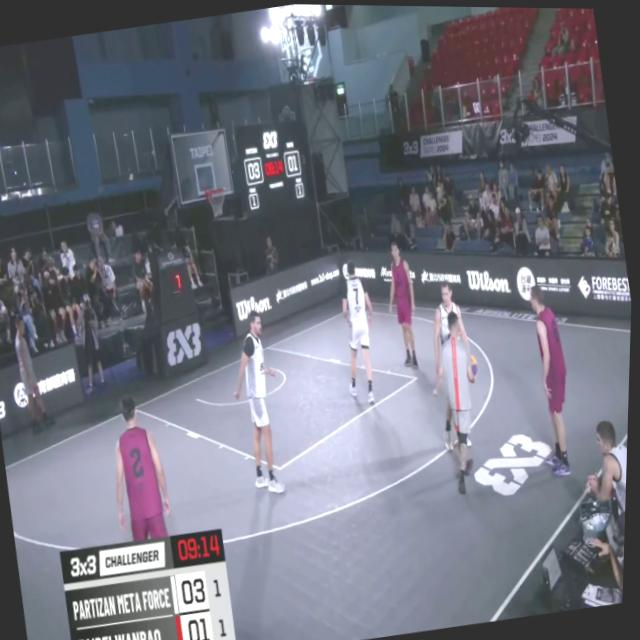ball: (464, 347, 485, 379)
hoop: (204, 180, 232, 220)
player: (222, 310, 299, 496), (419, 272, 489, 458), (523, 277, 586, 478), (103, 393, 180, 544), (332, 255, 389, 408), (380, 242, 426, 370)
